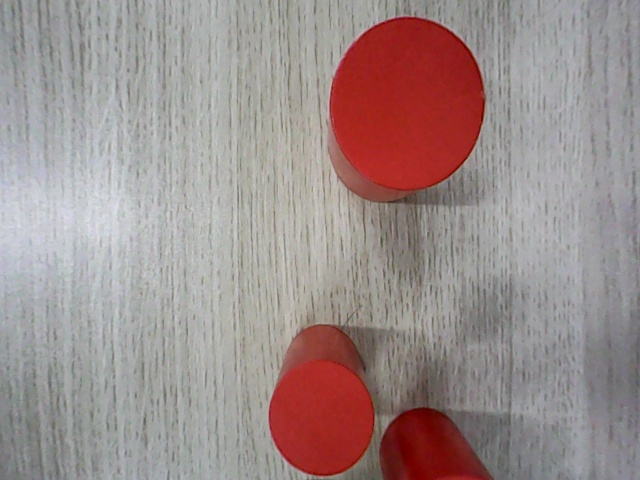upside of cylinder: (330, 17, 486, 190), (268, 360, 376, 477)
